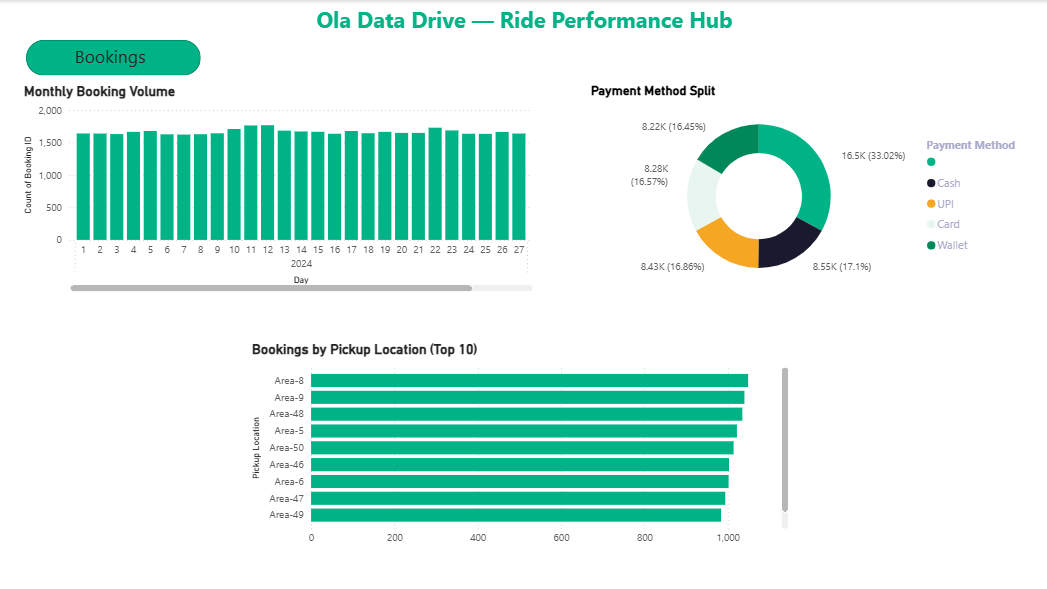

This screenshot's page, from the dashboard's own definition file:
{"tool":"powerbi","page":{"name":"Bookings","canvas":[1280,720],"ordinal":1},"visuals":[{"type":"clusteredColumnChart","title":"Monthly Booking Volume","fields":{"Y":["Count(ola_clean.Booking ID)"],"Category":["ola_clean.Date.Variation.Date Hierarchy.Year","ola_clean.Date.Variation.Date Hierarchy.Day"]},"box":[24.5,101.9,630.3,259.5],"z":0},{"type":"donutChart","title":"Payment Method Split","fields":{"Category":["ola_clean.Payment Method"],"Y":["Count(ola_clean.Booking ID)"]},"box":[715.9,101.9,543.4,258.1],"z":1000},{"type":"clusteredBarChart","title":"Bookings by Pickup Location (Top 10)","fields":{"Category":["ola_clean.Pickup Location"],"Y":["Count(ola_clean.Booking ID)"]},"box":[302.9,415.7,664.3,258.1],"z":2000},{"type":"textbox","box":[13.6,592.3,10.9,127.7],"z":3000},{"type":"textbox","box":[302.5,0,675,67],"z":4000},{"type":"shape","box":[31.2,48.9,213.3,43.5],"z":5000},{"type":"textbox","box":[24.5,48.9,220.1,43.5],"z":6000}]}

Visuals, with their boxes in screenshot pixels (x1, y1, x2, y2), scaled from the page's 1280x720 canvas onto the 1047x589 screenshot:
"Monthly Booking Volume" clusteredColumnChart: detection(20, 83, 536, 296)
"Payment Method Split" donutChart: detection(586, 83, 1030, 294)
"Bookings by Pickup Location (Top 10)" clusteredBarChart: detection(248, 340, 791, 551)
textbox: detection(11, 485, 20, 588)
textbox: detection(247, 0, 800, 55)
shape: detection(26, 40, 200, 76)
textbox: detection(20, 40, 200, 76)
